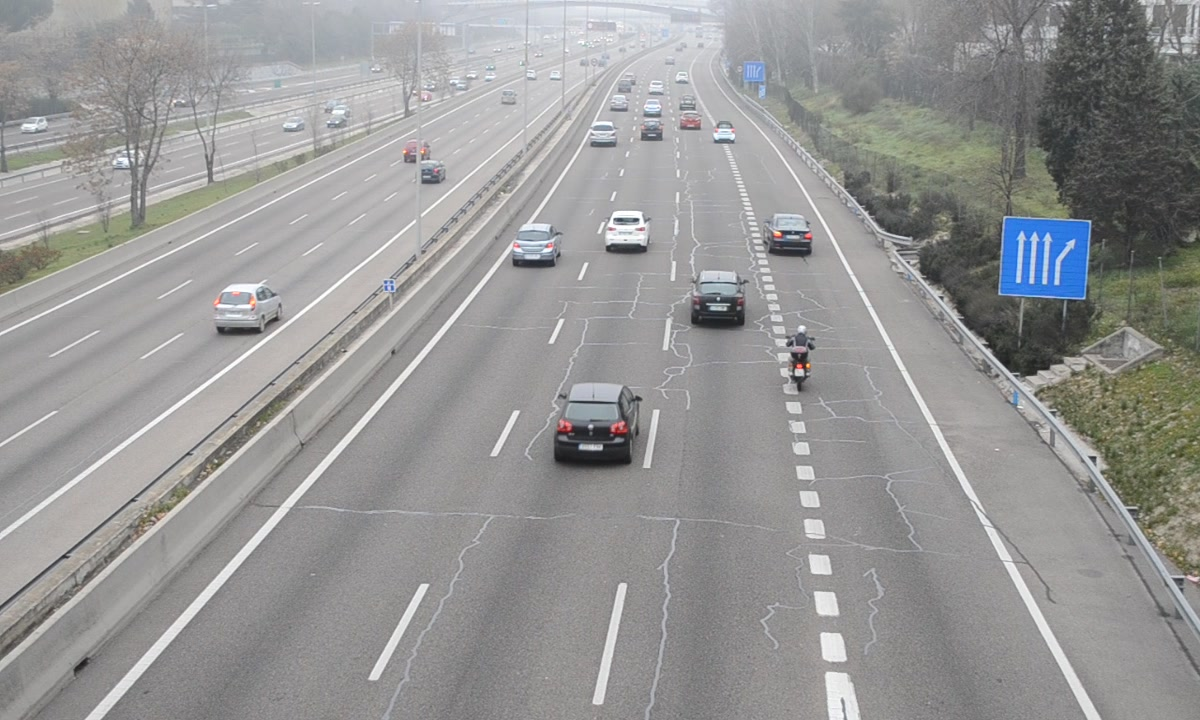car: (553, 383, 638, 464), (693, 271, 746, 324), (766, 213, 814, 254), (604, 210, 652, 251), (512, 223, 562, 261), (589, 121, 619, 149), (638, 117, 665, 140), (714, 120, 737, 145)
motorcycle: (784, 322, 818, 392)
